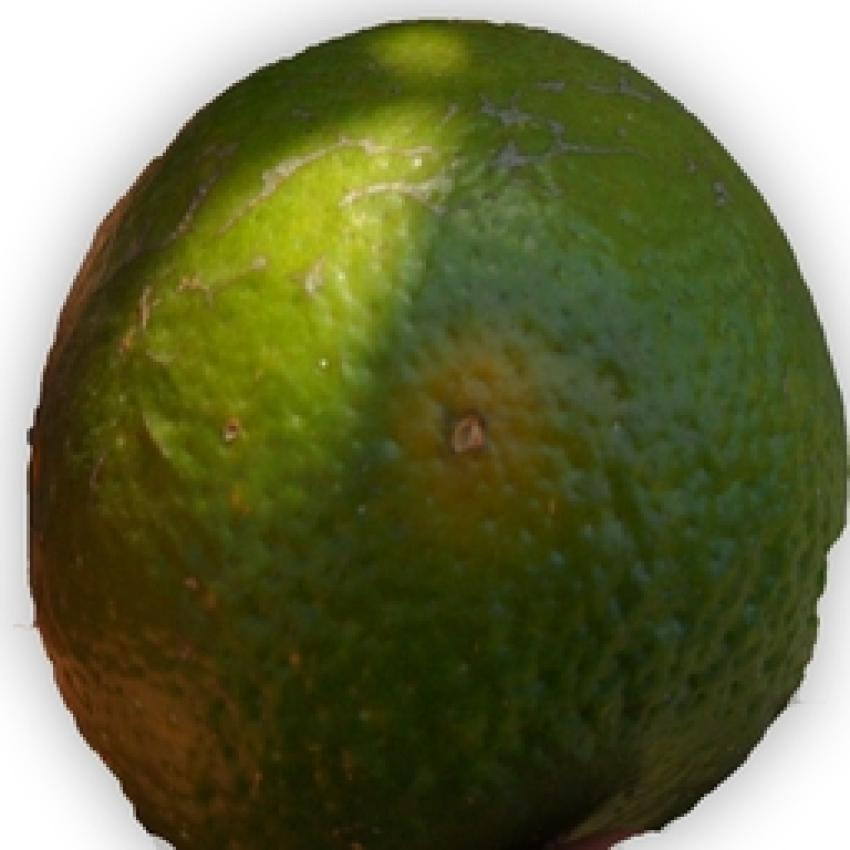Mal estado: (33, 6, 846, 847)
